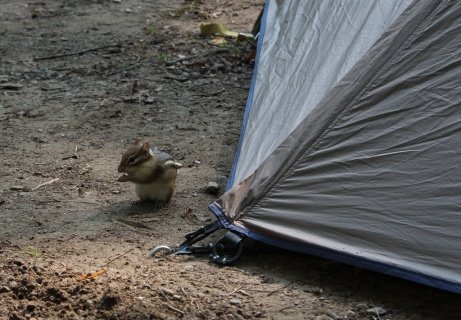Squirrel: (116, 136, 178, 209)
